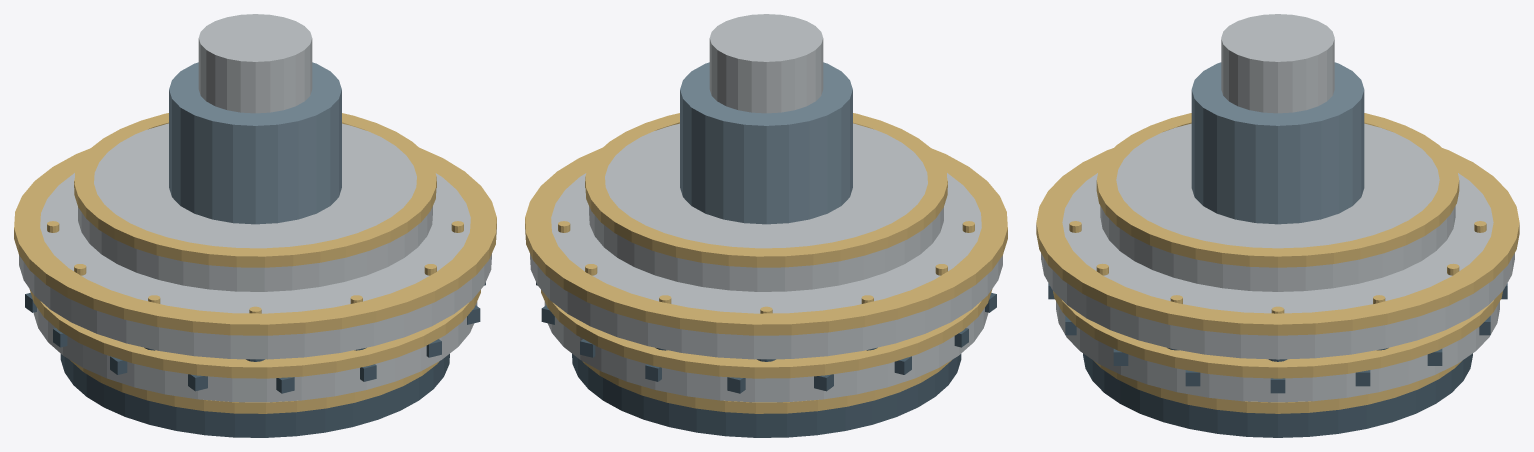
Rendered from 11_L77_BulkWaferCarrierHead.glb.
3 views of the same model, side by side, from view 1: azimuth 30°, elevation 25°; view 2: azimuth 150°, elevation 25°; view 3: azimuth 270°, elevation 25° (orthographic).
Visible parts, largest first — view 1: BulkWaferCarrierHead_Node_0006, BulkWaferCarrierHead_Node_0004, BulkWaferCarrierHead_Node_0008, BulkWaferCarrierHead_Node_0005, BulkWaferCarrierHead_Node_0007, BulkWaferCarrierHead_Node_0009, BulkWaferCarrierHead_Node_0000, BulkWaferCarrierHead_Node_0002, BulkWaferCarrierHead_Node_0003, BulkWaferCarrierHead_Node_0001; view 2: BulkWaferCarrierHead_Node_0006, BulkWaferCarrierHead_Node_0004, BulkWaferCarrierHead_Node_0008, BulkWaferCarrierHead_Node_0005, BulkWaferCarrierHead_Node_0007, BulkWaferCarrierHead_Node_0009, BulkWaferCarrierHead_Node_0000, BulkWaferCarrierHead_Node_0002, BulkWaferCarrierHead_Node_0003, BulkWaferCarrierHead_Node_0001; view 3: BulkWaferCarrierHead_Node_0006, BulkWaferCarrierHead_Node_0004, BulkWaferCarrierHead_Node_0008, BulkWaferCarrierHead_Node_0005, BulkWaferCarrierHead_Node_0007, BulkWaferCarrierHead_Node_0009, BulkWaferCarrierHead_Node_0000, BulkWaferCarrierHead_Node_0002, BulkWaferCarrierHead_Node_0003, BulkWaferCarrierHead_Node_0001.
Part boxes in pixels (<box>): BulkWaferCarrierHead_Node_0006: <box>78,123,432,291</box>; BulkWaferCarrierHead_Node_0004: <box>19,173,491,359</box>; BulkWaferCarrierHead_Node_0008: <box>169,62,341,224</box>; BulkWaferCarrierHead_Node_0005: <box>14,147,496,335</box>; BulkWaferCarrierHead_Node_0007: <box>74,113,436,267</box>; BulkWaferCarrierHead_Node_0009: <box>198,14,312,113</box>; BulkWaferCarrierHead_Node_0000: <box>60,354,449,437</box>; BulkWaferCarrierHead_Node_0002: <box>33,301,477,402</box>; BulkWaferCarrierHead_Node_0003: <box>29,289,480,378</box>; BulkWaferCarrierHead_Node_0001: <box>70,360,439,413</box>; BulkWaferCarrierHead_Node_0006: <box>589,123,943,291</box>; BulkWaferCarrierHead_Node_0004: <box>530,173,1002,359</box>; BulkWaferCarrierHead_Node_0008: <box>680,62,852,224</box>; BulkWaferCarrierHead_Node_0005: <box>525,147,1007,335</box>; BulkWaferCarrierHead_Node_0007: <box>585,113,947,267</box>; BulkWaferCarrierHead_Node_0009: <box>709,14,823,113</box>; BulkWaferCarrierHead_Node_0000: <box>572,354,961,437</box>; BulkWaferCarrierHead_Node_0002: <box>544,301,988,402</box>; BulkWaferCarrierHead_Node_0003: <box>541,289,992,378</box>; BulkWaferCarrierHead_Node_0001: <box>582,360,951,413</box>; BulkWaferCarrierHead_Node_0006: <box>1100,123,1455,291</box>; BulkWaferCarrierHead_Node_0004: <box>1041,173,1514,359</box>; BulkWaferCarrierHead_Node_0008: <box>1191,62,1364,224</box>; BulkWaferCarrierHead_Node_0005: <box>1036,148,1519,335</box>; BulkWaferCarrierHead_Node_0007: <box>1096,113,1459,267</box>; BulkWaferCarrierHead_Node_0009: <box>1221,14,1334,113</box>; BulkWaferCarrierHead_Node_0000: <box>1083,353,1472,437</box>; BulkWaferCarrierHead_Node_0002: <box>1056,301,1499,402</box>; BulkWaferCarrierHead_Node_0003: <box>1053,291,1502,378</box>; BulkWaferCarrierHead_Node_0001: <box>1093,360,1462,413</box>.
Size of the model in its own units: 1.96 by 1.42 by 1.96.
